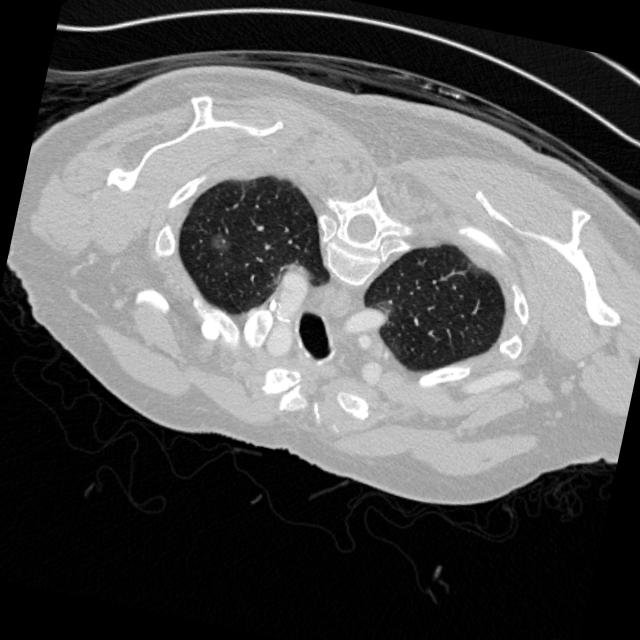nodule: (194, 221, 241, 268)
